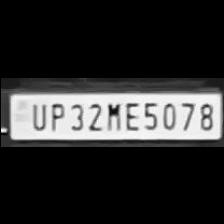0: (158, 99, 178, 129)
2: (84, 99, 102, 131)
3: (65, 98, 83, 130)
5: (140, 99, 158, 129)
7: (176, 97, 196, 130)
8: (195, 98, 215, 130)
E: (122, 98, 140, 130)
M: (104, 98, 122, 130)
P: (45, 98, 65, 130)
U: (26, 99, 46, 129)
